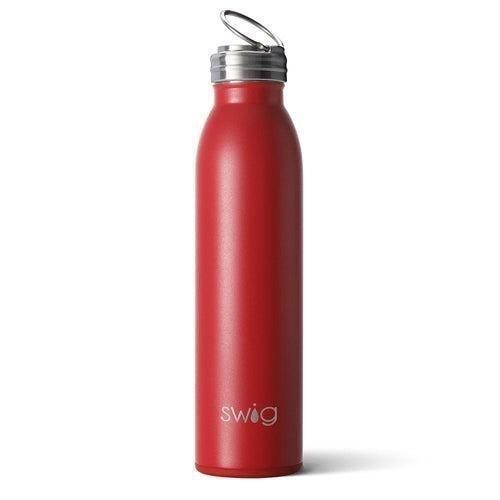gym bottle: (190, 6, 308, 484)
